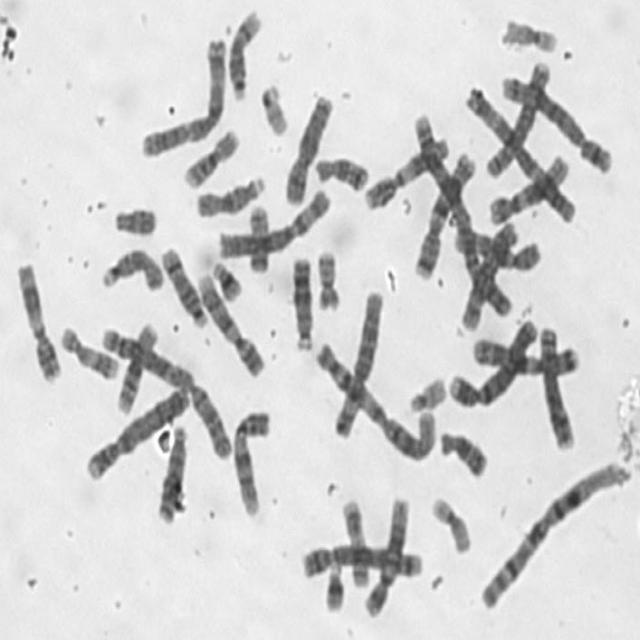A1: (474, 450, 633, 613), (311, 334, 440, 464)
A2: (406, 108, 517, 324), (96, 318, 234, 463)
A3: (460, 78, 577, 224), (136, 28, 229, 159)
B4: (81, 378, 193, 484), (446, 310, 542, 410)
B5: (496, 65, 617, 175), (295, 536, 426, 584)
C10: (458, 215, 521, 334), (447, 221, 543, 275)
C11: (358, 127, 452, 212), (12, 254, 63, 385)
C12: (486, 147, 573, 228), (359, 490, 412, 619)
C6: (210, 182, 333, 262), (328, 281, 386, 442)
C7: (410, 147, 479, 282), (469, 332, 583, 380)
C8: (483, 56, 553, 182), (534, 318, 579, 454)
C9: (193, 265, 268, 380), (227, 402, 274, 519)
D13: (153, 417, 190, 524), (287, 249, 316, 354)
D14: (158, 239, 209, 331), (224, 2, 264, 102)
D15: (192, 168, 268, 220), (96, 240, 167, 294)
E16: (113, 314, 161, 416), (180, 122, 243, 190)
E17: (56, 318, 122, 382), (337, 490, 372, 590)
E18: (434, 422, 492, 479), (311, 148, 371, 194)
F19: (426, 488, 474, 556), (498, 11, 560, 56)
F20: (244, 199, 274, 275), (312, 242, 343, 313)
G21: (208, 254, 245, 303), (320, 556, 348, 614)
G22: (256, 75, 292, 138), (405, 369, 449, 414)
X: (280, 86, 336, 208)
Y: (109, 200, 159, 238)
